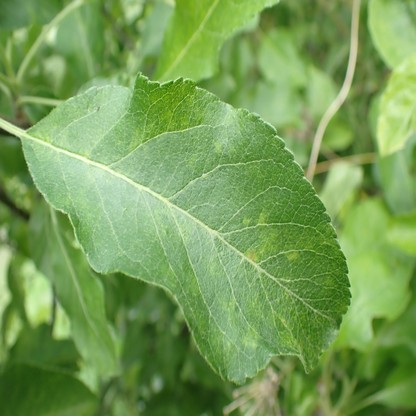scab: (279, 317, 302, 352), (258, 227, 279, 255), (28, 122, 53, 144), (243, 327, 257, 346), (284, 244, 298, 260), (244, 249, 257, 262), (258, 213, 266, 224), (214, 142, 221, 152), (242, 217, 251, 224)
